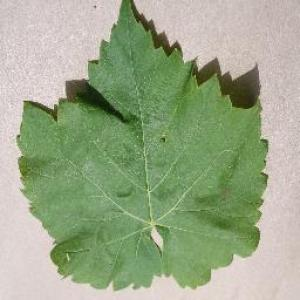Folha: (15, 0, 270, 291)
